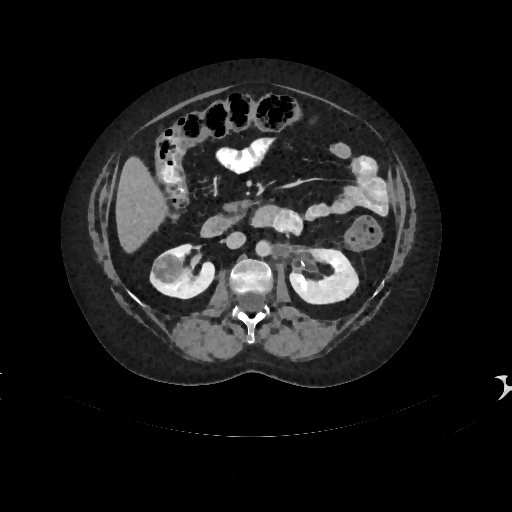Lesion: (148, 250, 187, 286)
